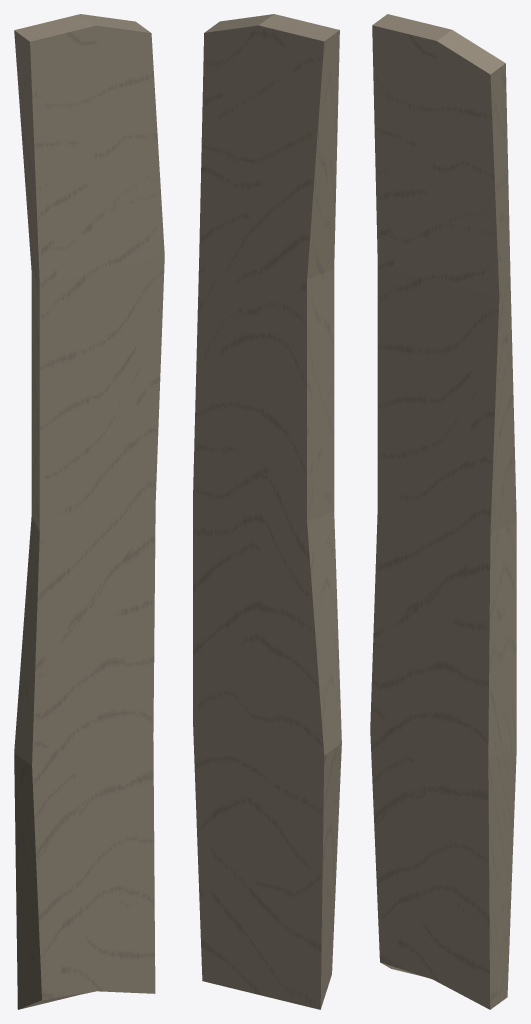
The model's file is Tablon3.fbx.
The picture shows the model from 3 angles, left to right: view 1: azimuth 30°, elevation 25°; view 2: azimuth 150°, elevation 25°; view 3: azimuth 330°, elevation 25°; orthographic projection. The views are drawn at different scales.
Parts seen in each view (by area): view 1: Cube.011; view 2: Cube.011; view 3: Cube.011.
Boxes of the visible parts, left/top/right/bottom form: Cube.011: left=14, top=14, right=164, bottom=1009; Cube.011: left=193, top=14, right=341, bottom=1009; Cube.011: left=370, top=14, right=516, bottom=1009.
Size of the model in its own units: 115 by 810 by 26.75.
